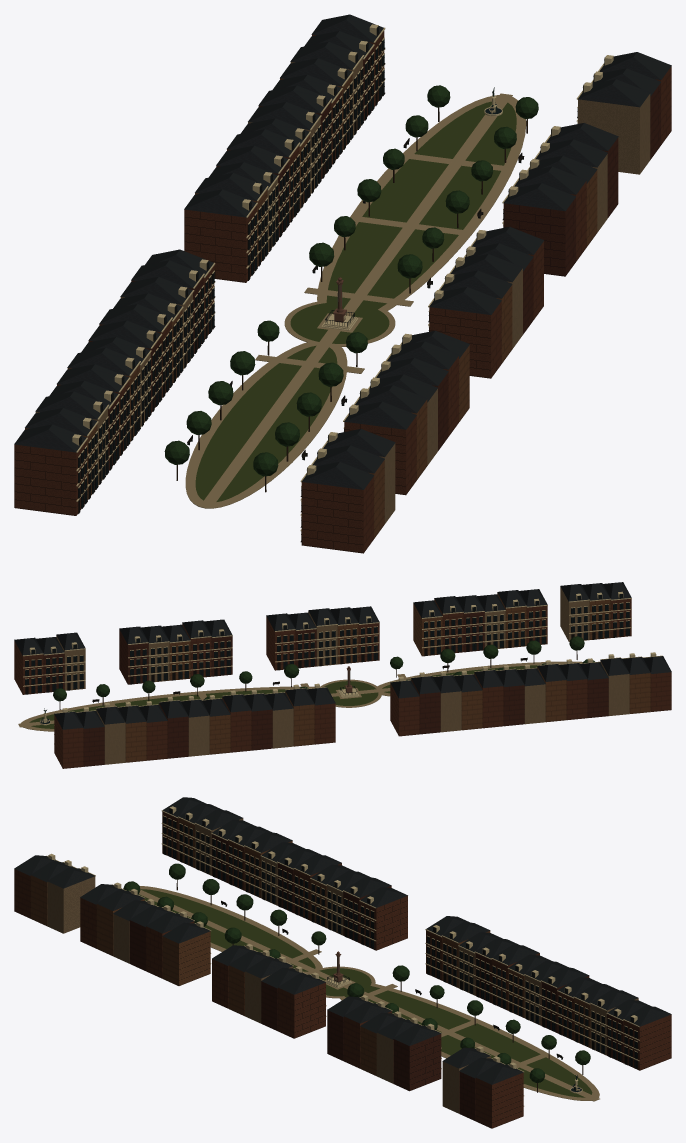
3 views of the same model, one above another, from view 1: azimuth 30°, elevation 25°; view 2: azimuth 150°, elevation 25°; view 3: azimuth 270°, elevation 25° (orthographic). The views are drawn at different scales.
Parts seen in each view (by area): view 1: burgemeester-hoffmanplein-12, burgemeester-hoffmanplein-11, burgemeester-hoffmanplein-0, burgemeester-hoffmanplein-1, burgemeester-hoffmanplein-4, burgemeester-hoffmanplein-3, burgemeester-hoffmanplein-6, burgemeester-hoffmanplein-9, burgemeester-hoffmanplein-14, burgemeester-hoffmanplein-15, burgemeester-hoffmanplein-13; view 2: burgemeester-hoffmanplein-12, burgemeester-hoffmanplein-11, burgemeester-hoffmanplein-14, burgemeester-hoffmanplein-13, burgemeester-hoffmanplein-15, burgemeester-hoffmanplein-9, burgemeester-hoffmanplein-4, burgemeester-hoffmanplein-6, burgemeester-hoffmanplein-1, burgemeester-hoffmanplein-3, burgemeester-hoffmanplein-0; view 3: burgemeester-hoffmanplein-12, burgemeester-hoffmanplein-11, burgemeester-hoffmanplein-13, burgemeester-hoffmanplein-15, burgemeester-hoffmanplein-14, burgemeester-hoffmanplein-0, burgemeester-hoffmanplein-4, burgemeester-hoffmanplein-9, burgemeester-hoffmanplein-6, burgemeester-hoffmanplein-1, burgemeester-hoffmanplein-3.
Boxes of the visible parts, x1,y1,x2,y2 form: burgemeester-hoffmanplein-12: (14,14,671,489); burgemeester-hoffmanplein-11: (14,31,671,553); burgemeester-hoffmanplein-0: (195,101,516,501); burgemeester-hoffmanplein-1: (185,93,526,508); burgemeester-hoffmanplein-4: (78,26,605,542); burgemeester-hoffmanplein-3: (164,85,538,476); burgemeester-hoffmanplein-6: (72,24,613,531); burgemeester-hoffmanplein-9: (78,27,604,526); burgemeester-hoffmanplein-14: (35,58,650,523); burgemeester-hoffmanplein-15: (88,47,660,471); burgemeester-hoffmanplein-13: (25,74,597,538); burgemeester-hoffmanplein-12: (14,582,671,729); burgemeester-hoffmanplein-11: (14,598,671,768); burgemeester-hoffmanplein-14: (56,587,629,764); burgemeester-hoffmanplein-13: (125,593,650,762); burgemeester-hoffmanplein-15: (43,611,608,766); burgemeester-hoffmanplein-9: (25,594,629,723); burgemeester-hoffmanplein-4: (25,594,629,701); burgemeester-hoffmanplein-6: (23,591,662,734); burgemeester-hoffmanplein-1: (18,661,582,731); burgemeester-hoffmanplein-3: (53,636,594,712); burgemeester-hoffmanplein-0: (29,665,539,728); burgemeester-hoffmanplein-12: (14,797,671,1084); burgemeester-hoffmanplein-11: (14,811,671,1128); burgemeester-hoffmanplein-13: (30,818,590,1075); burgemeester-hoffmanplein-15: (129,834,623,1121); burgemeester-hoffmanplein-14: (47,818,638,1113); burgemeester-hoffmanplein-0: (138,889,592,1097); burgemeester-hoffmanplein-4: (55,808,637,1069); burgemeester-hoffmanplein-9: (163,808,637,1091); burgemeester-hoffmanplein-6: (46,806,639,1106); burgemeester-hoffmanplein-1: (139,886,599,1101); burgemeester-hoffmanplein-3: (123,863,590,1082).
Bounding box in the file's own units: 220 × 19.5 × 212.
Materials: 16 (16 with a texture image).
